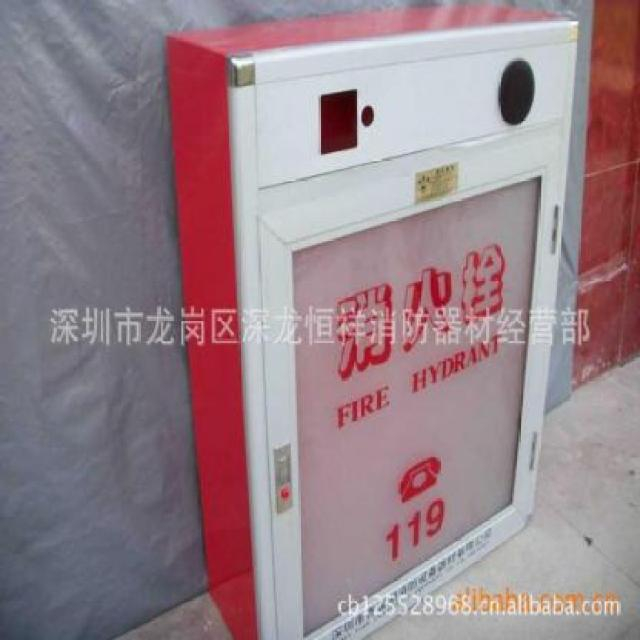firehydrant: (162, 0, 582, 640)
